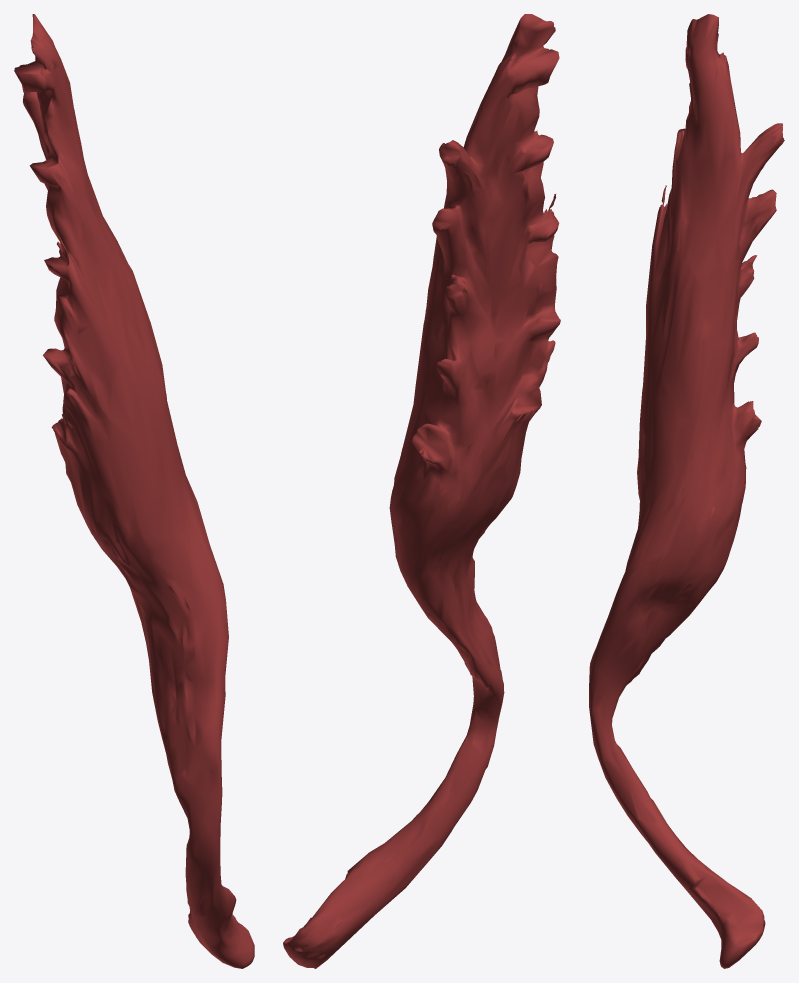
Rendered from psoas-major-l.glb.
3 views of the same model, side by side, from view 1: azimuth 30°, elevation 25°; view 2: azimuth 150°, elevation 25°; view 3: azimuth 270°, elevation 25° (orthographic). The views are drawn at different scales.
Visible parts, largest first — view 1: Psoas major.l; view 2: Psoas major.l; view 3: Psoas major.l.
Boxes of the visible parts, bbox=[...] form: Psoas major.l: bbox=[14, 14, 254, 968]; Psoas major.l: bbox=[283, 14, 560, 968]; Psoas major.l: bbox=[589, 14, 784, 968].
Size of the model in its own units: 0.0998 by 0.3799 by 0.0781.
